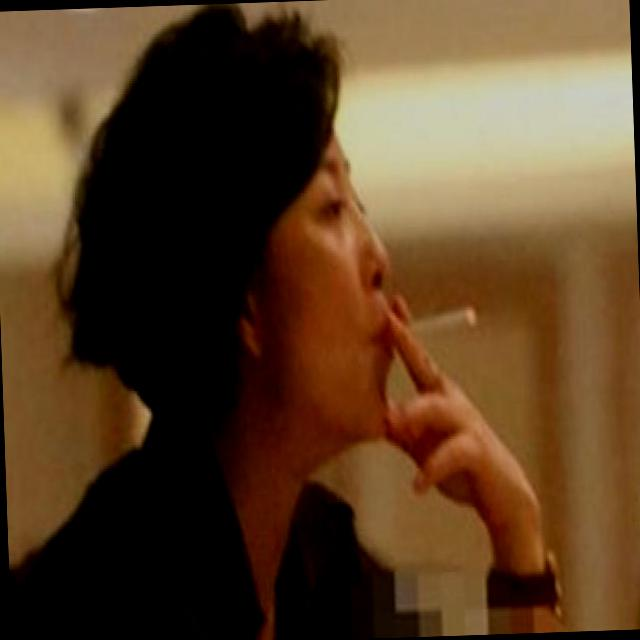smoke: (382, 291, 487, 346)
